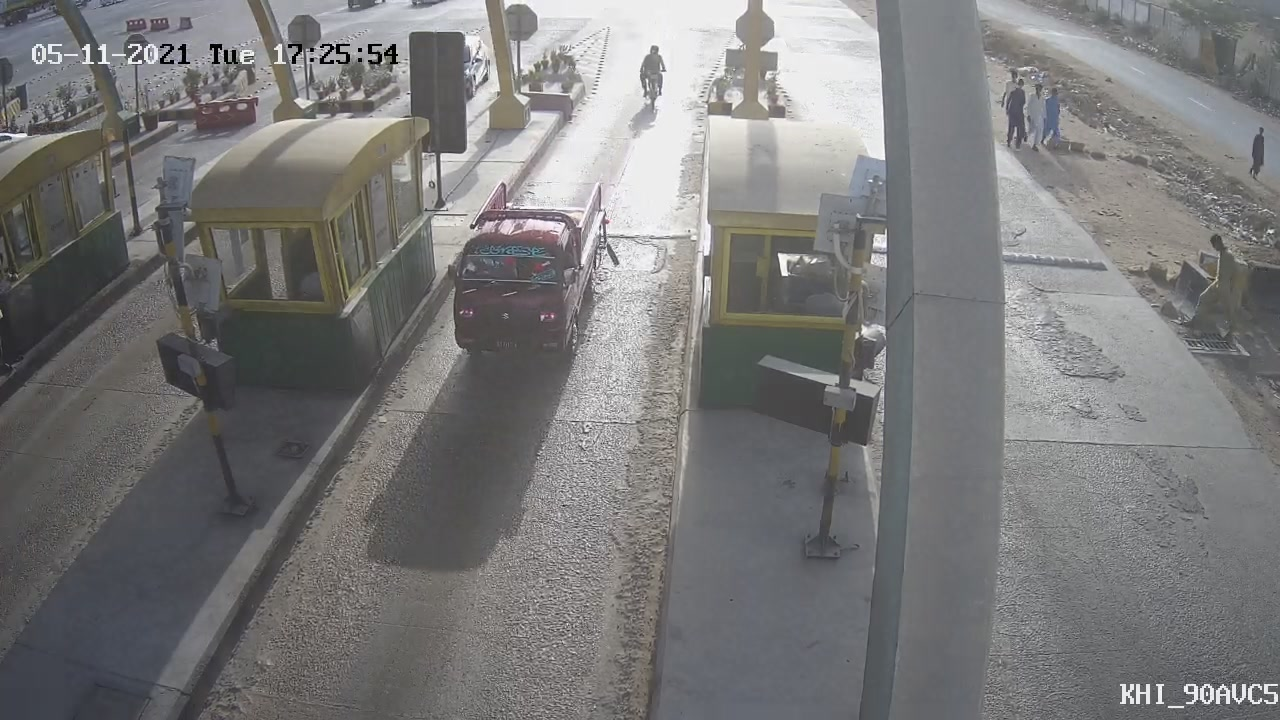F1: (421, 167, 629, 377)
